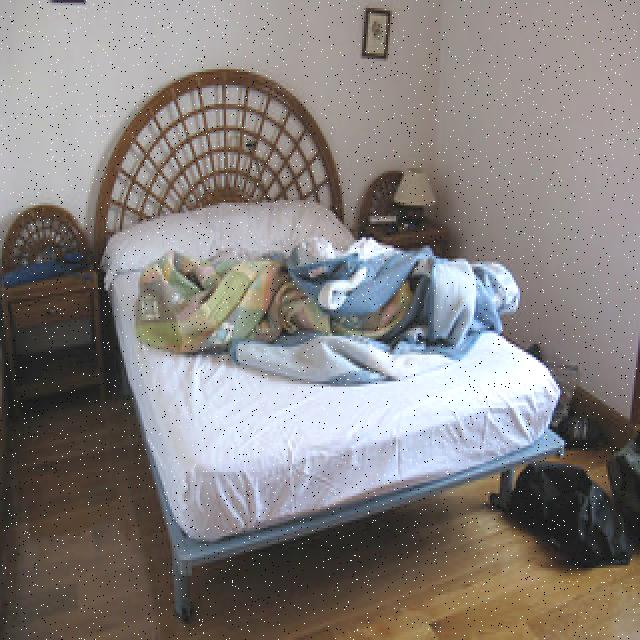bed: (117, 179, 548, 575)
